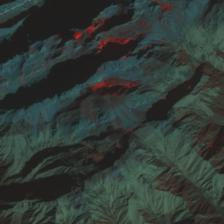landslides: (27, 103, 42, 148), (81, 96, 98, 133), (12, 111, 28, 144), (105, 96, 122, 127), (45, 98, 55, 139), (160, 17, 177, 41), (169, 7, 184, 24), (169, 10, 180, 28), (211, 106, 224, 115), (187, 195, 198, 205), (199, 204, 209, 214)
